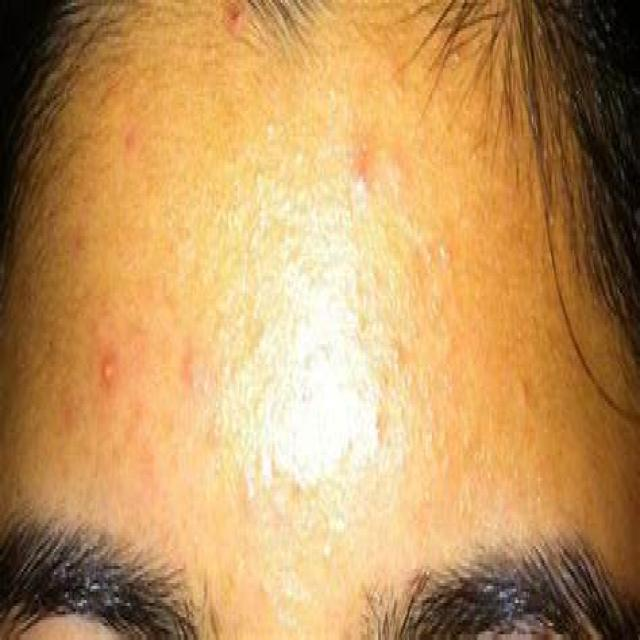fungal: (170, 143, 420, 554)
